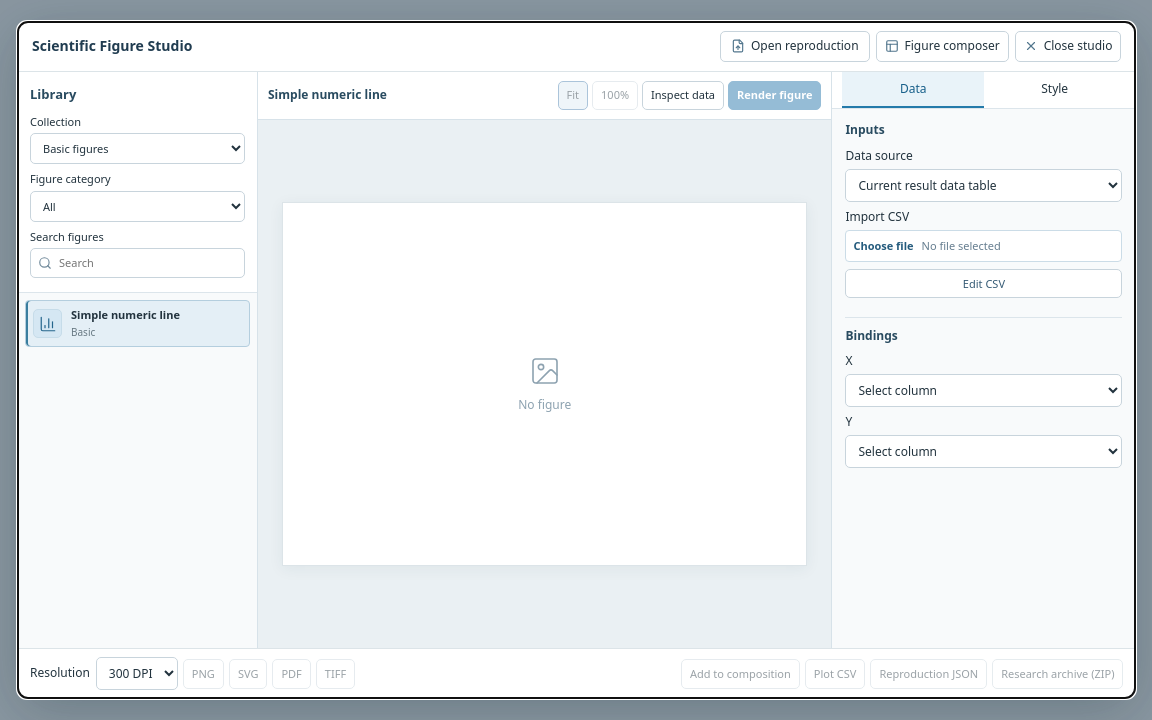
separates basic and professional recipes with a compatible initial selection
Expected: the button "Simple numeric line Basic" is shown, [25,300,250,347]
Expected: the button "Binary ROC" is not shown
Select "Professional figures" in the dropdown named "Figure library tier": x=138, y=149 [30,133,245,164]
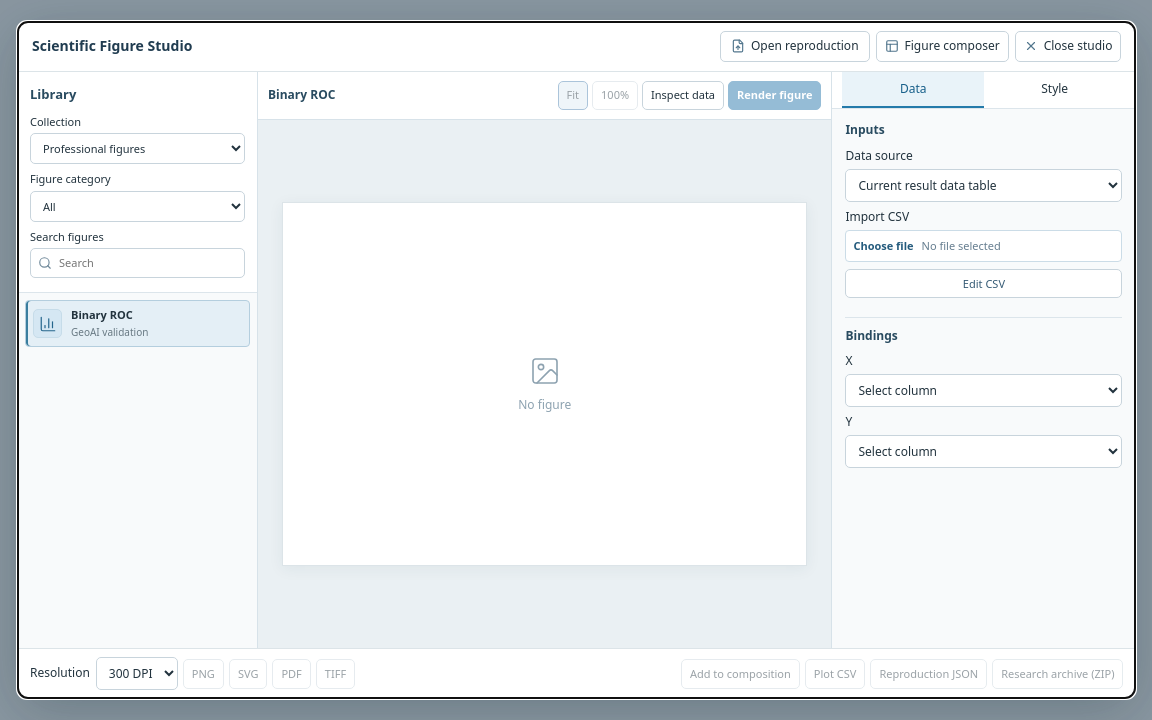
Now the button "Simple numeric line" is gone
